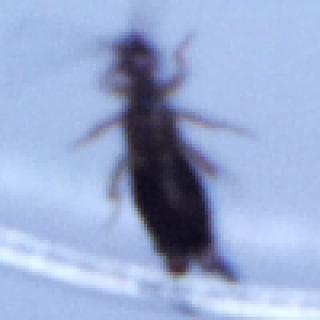earwig: (79, 18, 255, 308)
